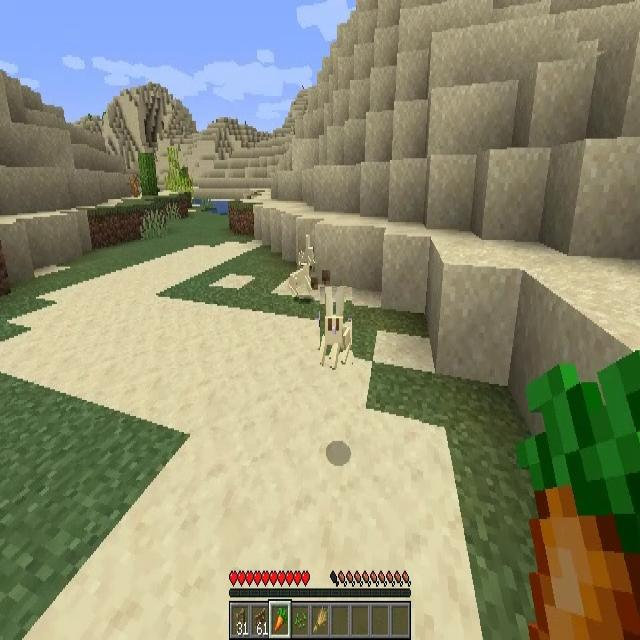rabbit: (320, 287, 352, 370), (290, 256, 313, 298), (298, 228, 315, 266)
